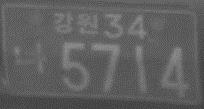1: (126, 45, 154, 93)
3: (103, 13, 122, 39)
4: (161, 46, 190, 97), (128, 14, 146, 39)
5: (61, 41, 88, 91)
7: (90, 42, 122, 89)
강원_O: (52, 10, 98, 35)
나: (13, 42, 48, 73)
